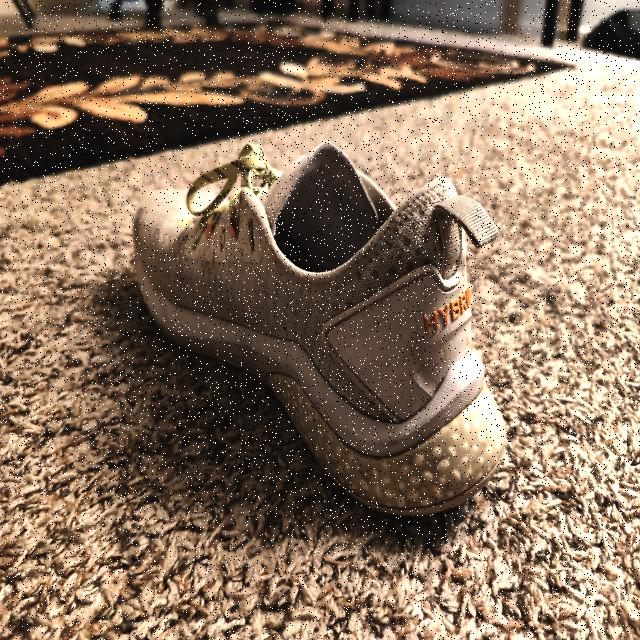white shoes: (136, 172, 508, 514)
